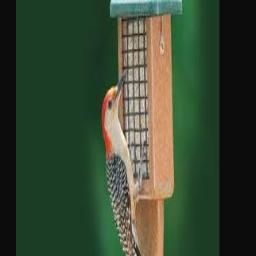Woodpecker: (102, 69, 154, 256)
